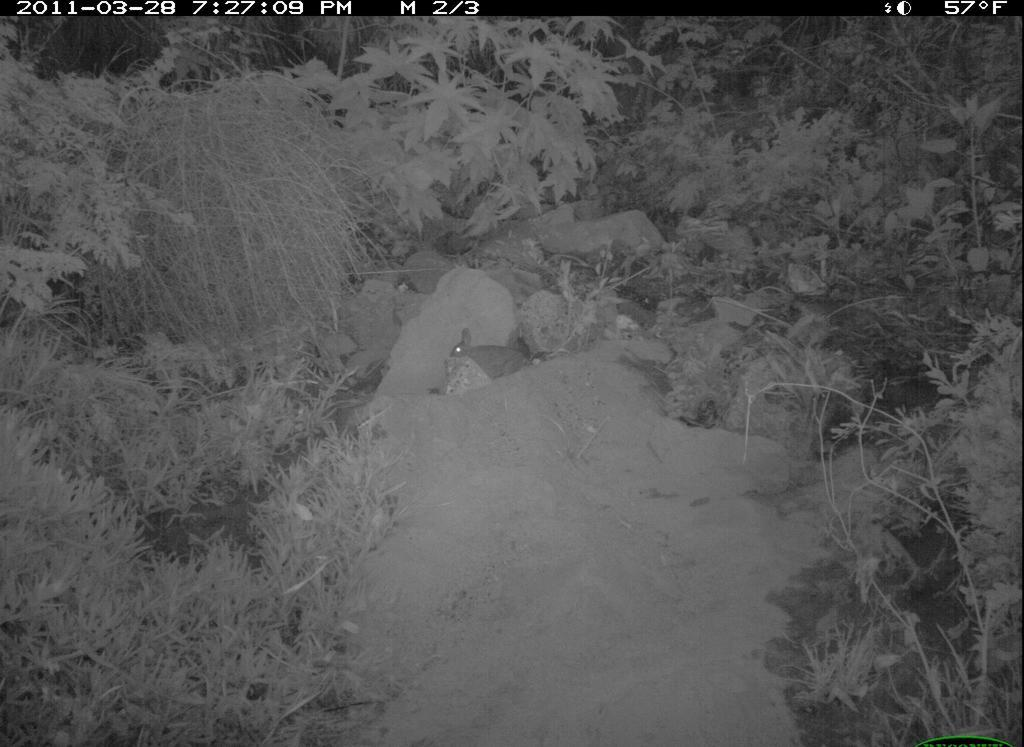rabbit: (450, 323, 542, 392)
